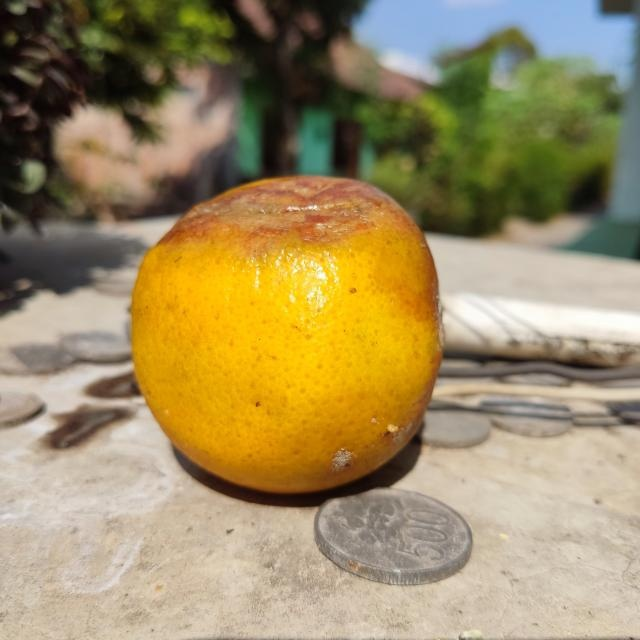agrume: (126, 172, 443, 491)
